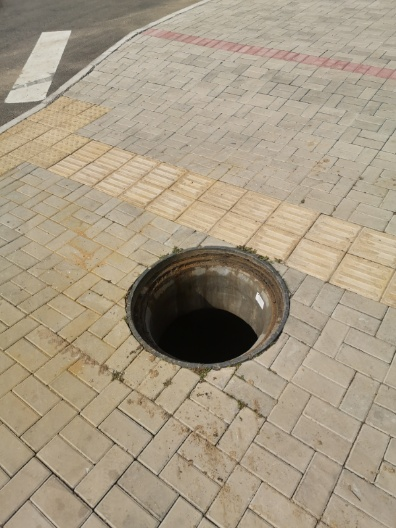lose: (125, 246, 291, 371)
